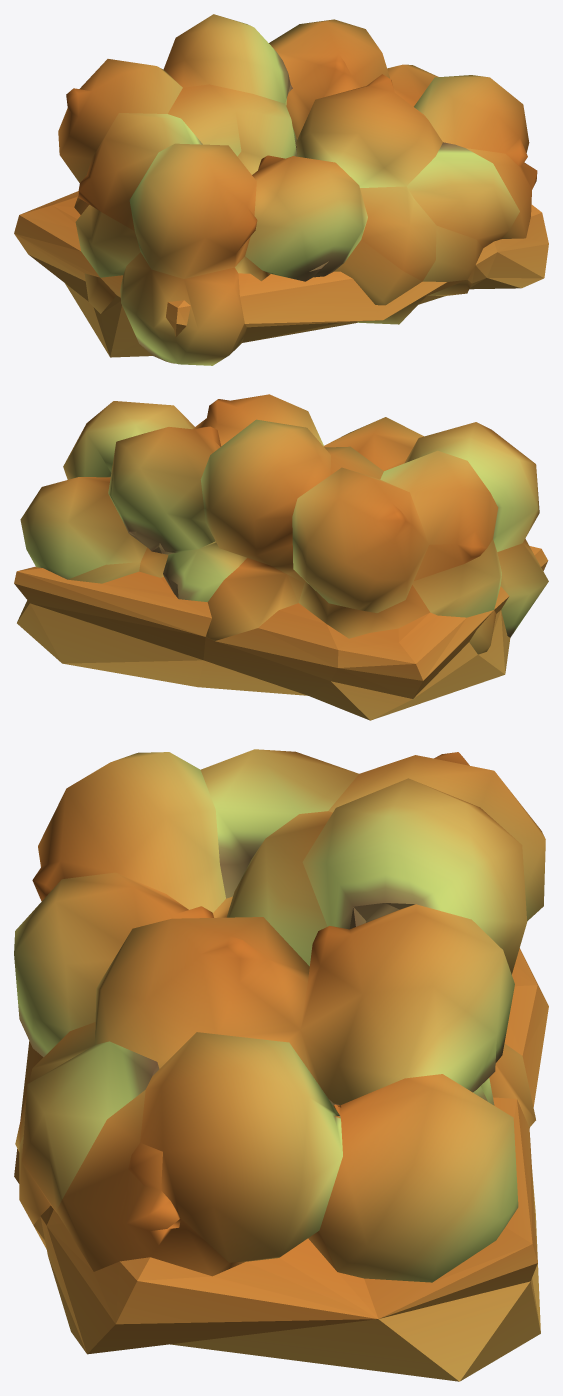
File: onions_pile_lowpoly.fbx
The picture shows the model from 3 angles, top to bottom: view 1: azimuth 30°, elevation 25°; view 2: azimuth 150°, elevation 25°; view 3: azimuth 270°, elevation 25°; orthographic projection. The views are drawn at different scales.
Visible parts, largest first — view 1: onions_pile_lowpoly; view 2: onions_pile_lowpoly; view 3: onions_pile_lowpoly.
Part boxes in pixels (<box>): onions_pile_lowpoly: <box>14,14,548,365</box>; onions_pile_lowpoly: <box>14,394,548,720</box>; onions_pile_lowpoly: <box>14,749,548,1381</box>.
Bounding box in the file's own units: 414 × 236 × 276.
